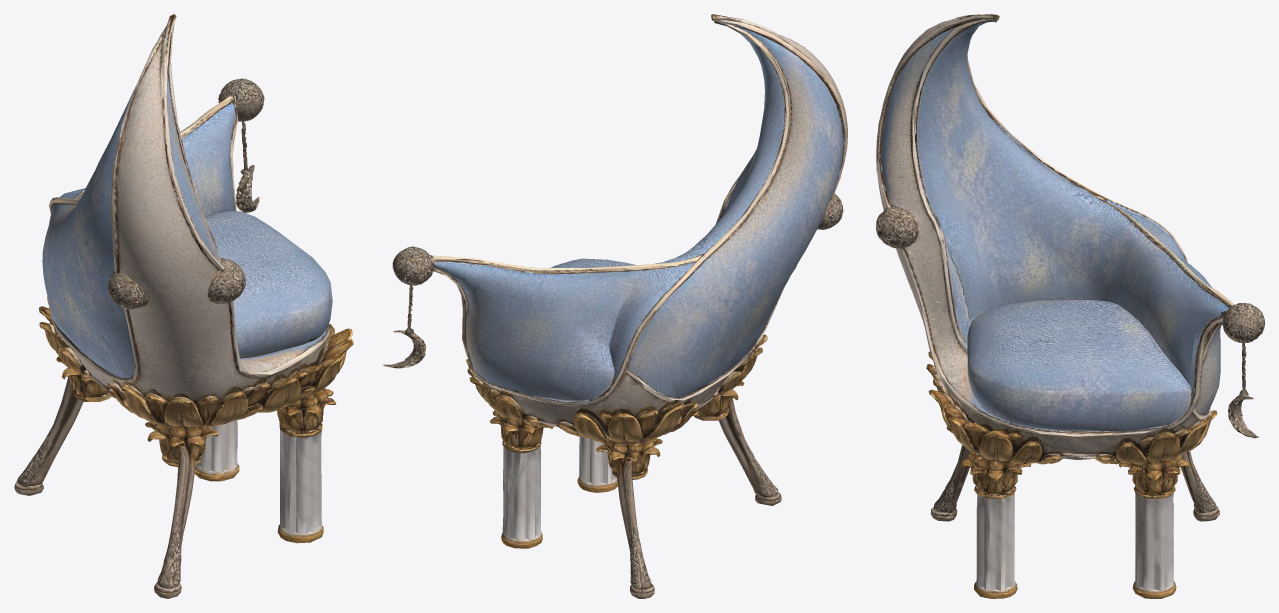
The model's file is SE-02_armchair_game.glb.
3 views of the same model, side by side, from view 1: azimuth 30°, elevation 25°; view 2: azimuth 150°, elevation 25°; view 3: azimuth 270°, elevation 25° (orthographic). The views are drawn at different scales.
Parts seen in each view (by area): view 1: SE-02_armchair; view 2: SE-02_armchair; view 3: SE-02_armchair.
Part boxes in pixels (box(x1,y1,x2,y2)): SE-02_armchair: box(14, 14, 353, 598); SE-02_armchair: box(382, 14, 847, 598); SE-02_armchair: box(876, 14, 1264, 598).
Size of the model in its own units: 0.7347 by 1.15 by 0.7827.
1 material, 1 textured.
